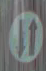Two way: (3, 3, 42, 60)
